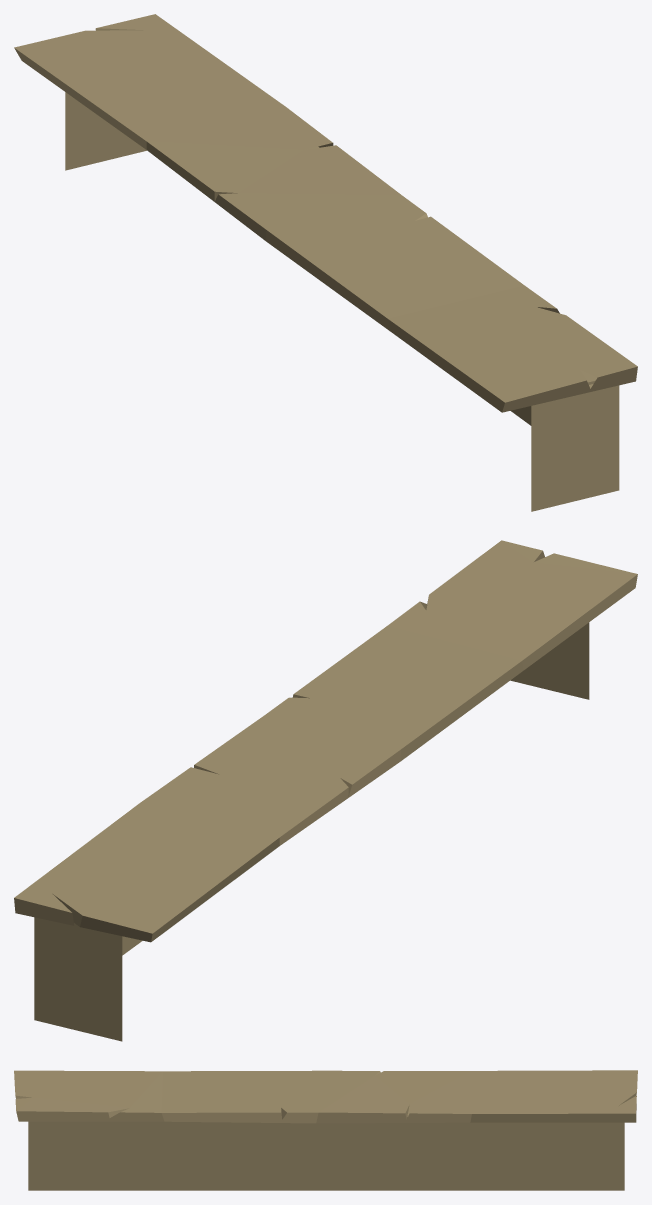
Rendered from bar.fbx.
The picture shows the model from 3 angles, top to bottom: view 1: azimuth 30°, elevation 25°; view 2: azimuth 150°, elevation 25°; view 3: azimuth 270°, elevation 25°; orthographic projection. The views are drawn at different scales.
Visible parts, largest first — view 1: Cube; view 2: Cube; view 3: Cube.
Part boxes in pixels (x1,y1,x2,y2): Cube: (14, 14, 637, 511); Cube: (14, 540, 637, 1041); Cube: (14, 1070, 637, 1190).
Bounding box in the file's own units: 112 × 96.84 × 666.
